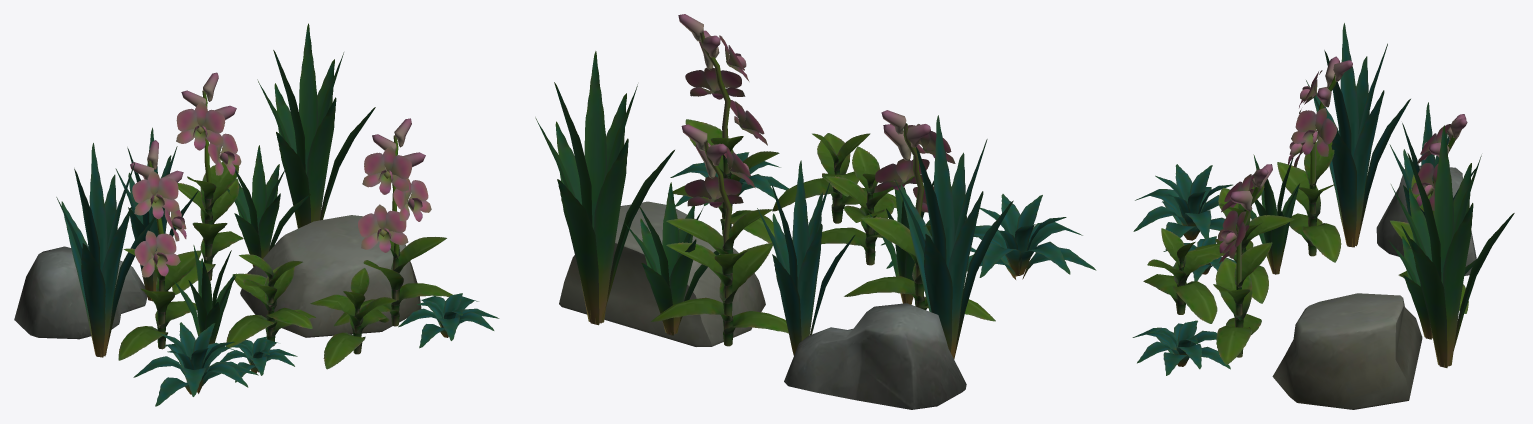
File: pink-flowers.glb
3 renders of one model, left to right at view 1: azimuth 30°, elevation 25°; view 2: azimuth 150°, elevation 25°; view 3: azimuth 270°, elevation 25°, orthographic. The views are drawn at different scales.
Bounding box in the file's own units: 28.52 × 18.1 × 25.69.
Materials: 3 (3 with a texture image).
